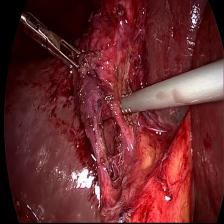Grasper: (30, 10, 88, 74)
Irrigator: (118, 90, 145, 120)
